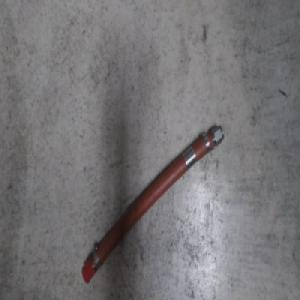Hose: (79, 122, 224, 287)
